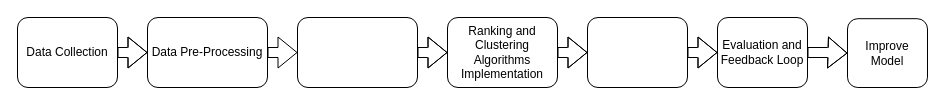
This 945x105 diagram has some shape labels left out. Here are the shapes that lost their labels. From the top down, the box of each, then its label:
(296, 16, 418, 88): Creating and storing vector Embeddings
(586, 16, 688, 88): Retrieval Augmented Generation
